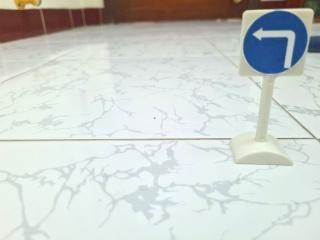left: (233, 6, 317, 82)
